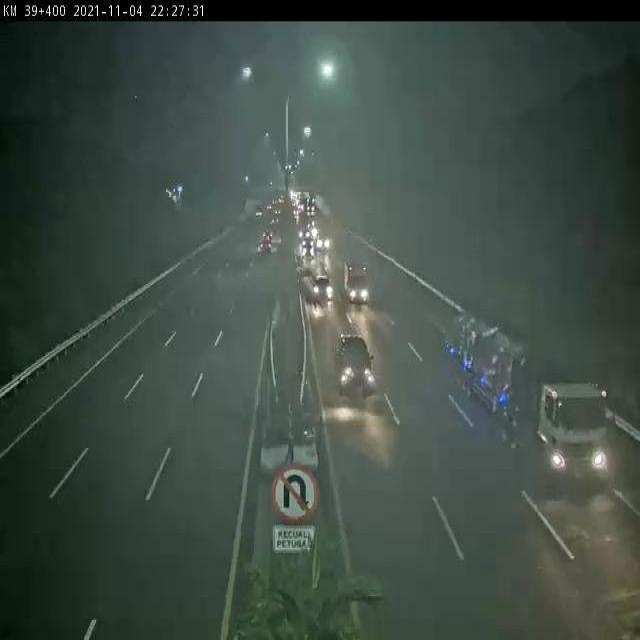car: (334, 330, 375, 394), (312, 266, 335, 302)
truck-s-: (340, 255, 371, 304)
truck-xl-: (447, 304, 610, 481)
